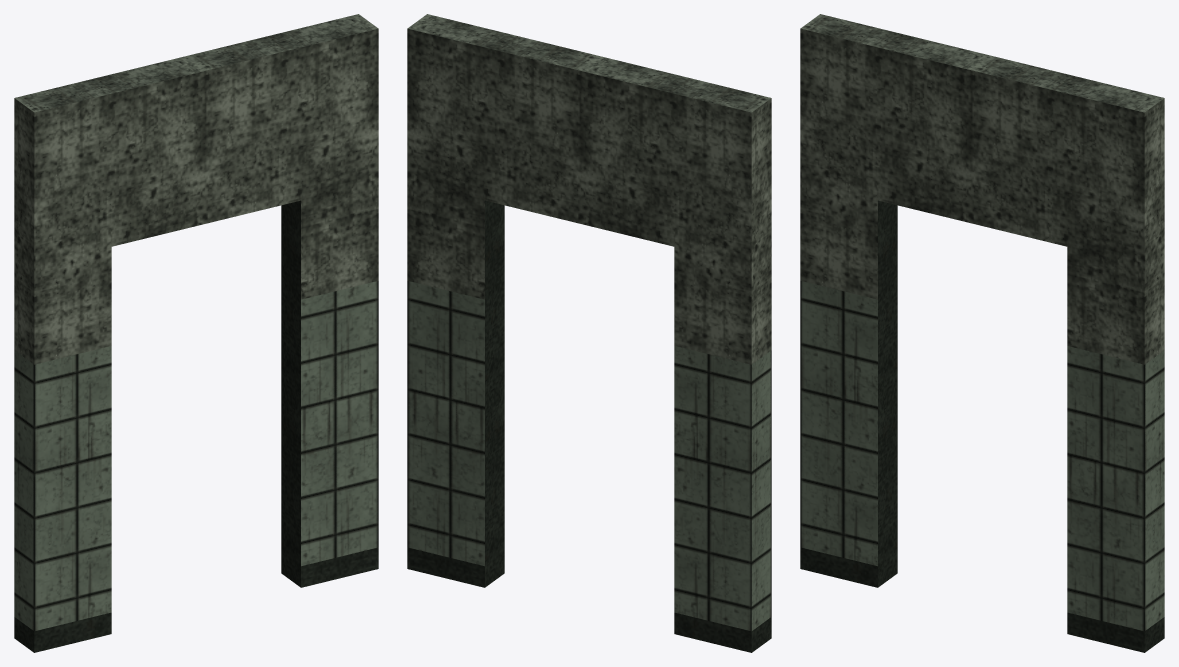
Rendered from SM_Wall_Doorway_2m.fbx.
3 views of the same model, side by side, from view 1: azimuth 30°, elevation 25°; view 2: azimuth 150°, elevation 25°; view 3: azimuth 330°, elevation 25° (orthographic).
Parts seen in each view (by area): view 1: SM_Wall_Doorway_2m; view 2: SM_Wall_Doorway_2m; view 3: SM_Wall_Doorway_2m.
Boxes of the visible parts, x1,y1,x2,y2 form: SM_Wall_Doorway_2m: (14, 14, 378, 652); SM_Wall_Doorway_2m: (407, 14, 771, 652); SM_Wall_Doorway_2m: (800, 14, 1164, 652).
Size of the model in its own units: 2 by 3 by 0.2.
